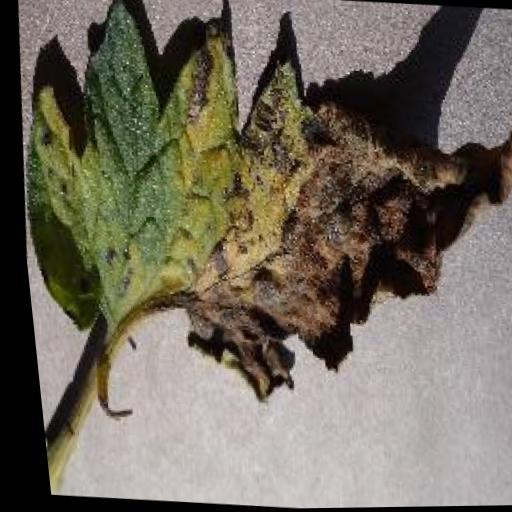Early Blight: (0, 0, 512, 429)
